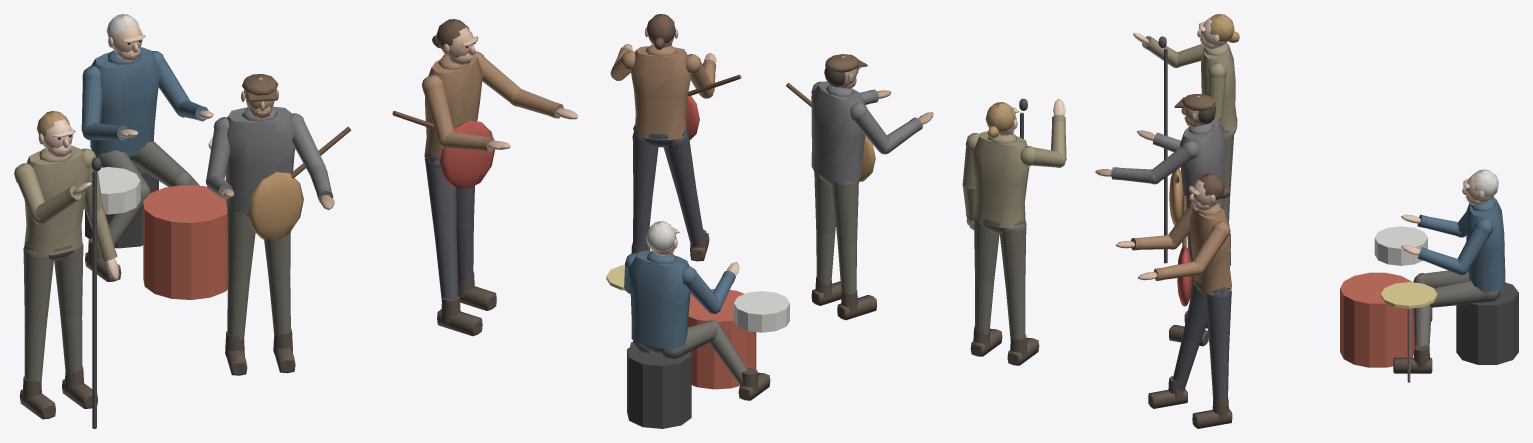
Rendered from crowd_band_a.glb.
3 views of the same model, side by side, from view 1: azimuth 30°, elevation 25°; view 2: azimuth 150°, elevation 25°; view 3: azimuth 270°, elevation 25° (orthographic). The views are drawn at different scales.
Visible parts, largest first — view 1: body; view 2: body; view 3: body.
Boxes of the visible parts, left/top/right/bottom form: body: left=14, top=14, right=577, bottom=428; body: left=606, top=14, right=1066, bottom=428; body: left=1095, top=14, right=1518, bottom=428.
Bounding box in the file's own units: 3.21 × 1.72 × 2.7.
